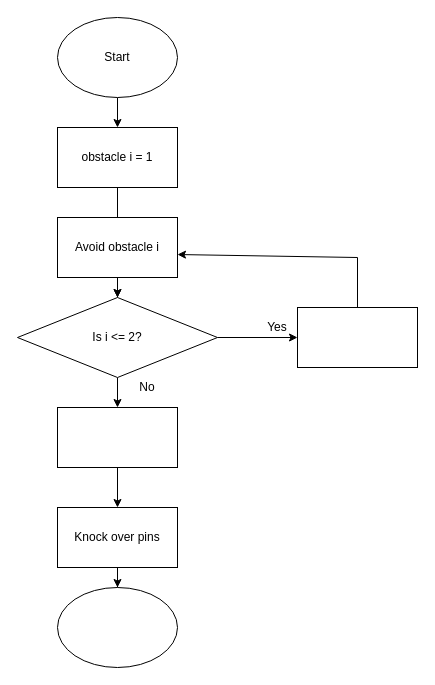
Some shapes in this 435 by 685 pixel diagram are drawn without their labels. Here are the shapes that lost their labels. From the top down, the centre of each, then its label:
the point at 357,337: i += 1
the point at 117,437: Go over ramp
the point at 117,627: End
